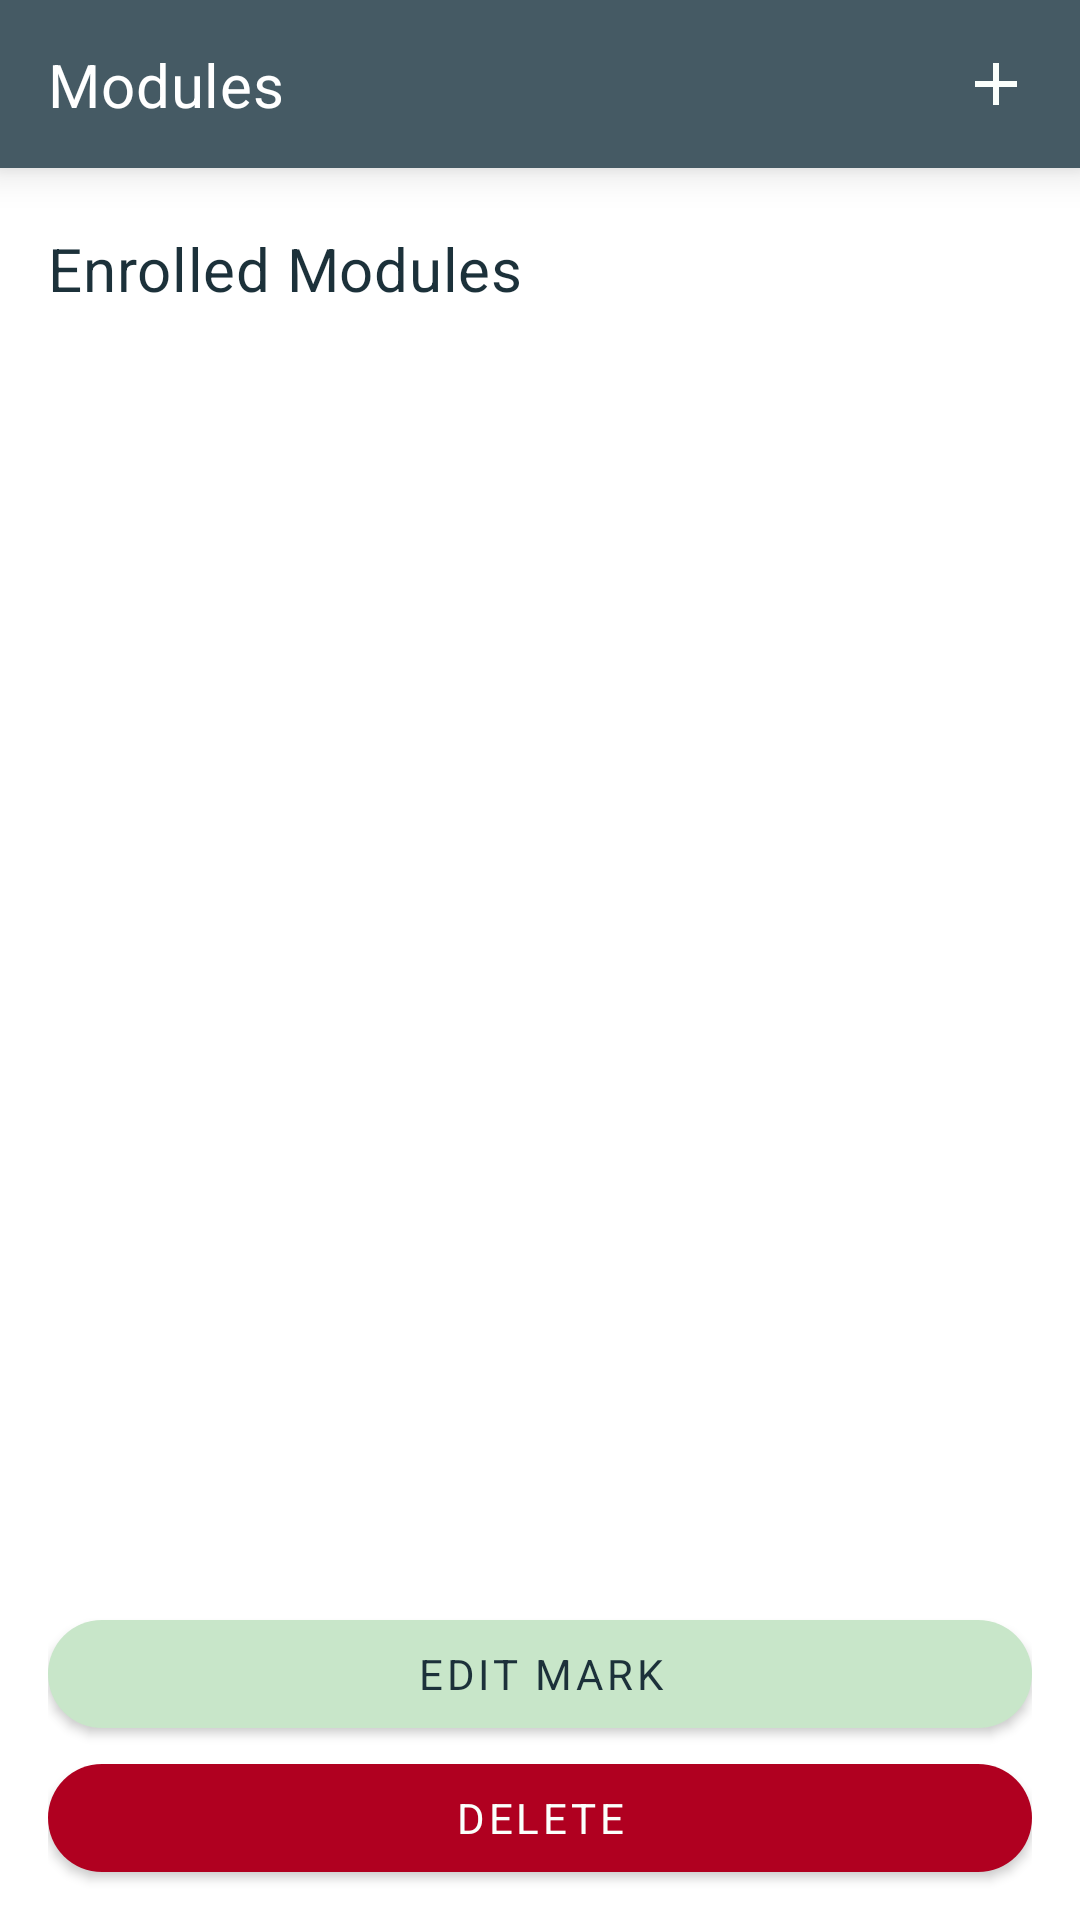

Icon bounding boxes for this 1080x1920 phone screenshot, format (x1, y1, x2, y2):
Add a Module: (975, 63, 1017, 105)
